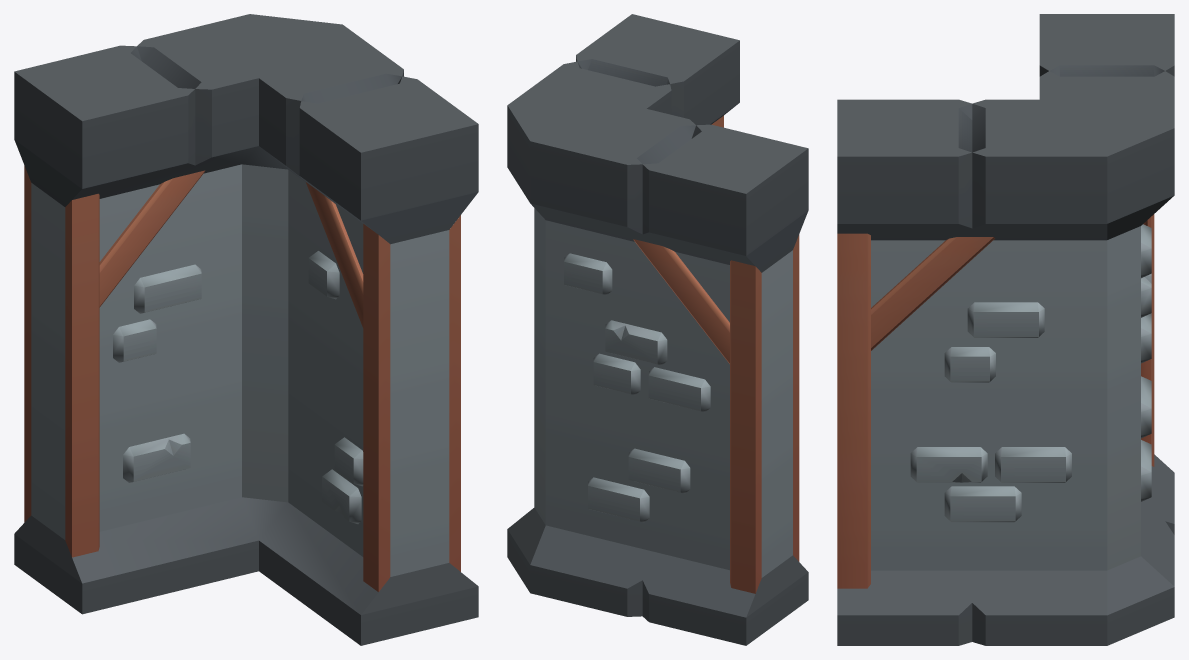
The model's file is wall_corner_scaffold.glb.
The picture shows the model from 3 angles, left to right: view 1: azimuth 30°, elevation 25°; view 2: azimuth 150°, elevation 25°; view 3: azimuth 270°, elevation 25°; orthographic projection. The views are drawn at different scales.
Parts seen in each view (by area): view 1: wall_corner_scaffold; view 2: wall_corner_scaffold; view 3: wall_corner_scaffold.
Boxes of the visible parts, x1,y1,x2,y2 form: wall_corner_scaffold: (14,14,478,645); wall_corner_scaffold: (507,14,808,645); wall_corner_scaffold: (837,14,1174,645).
Size of the model in its own units: 2.5 by 4 by 2.5.
1 material, 1 textured.
